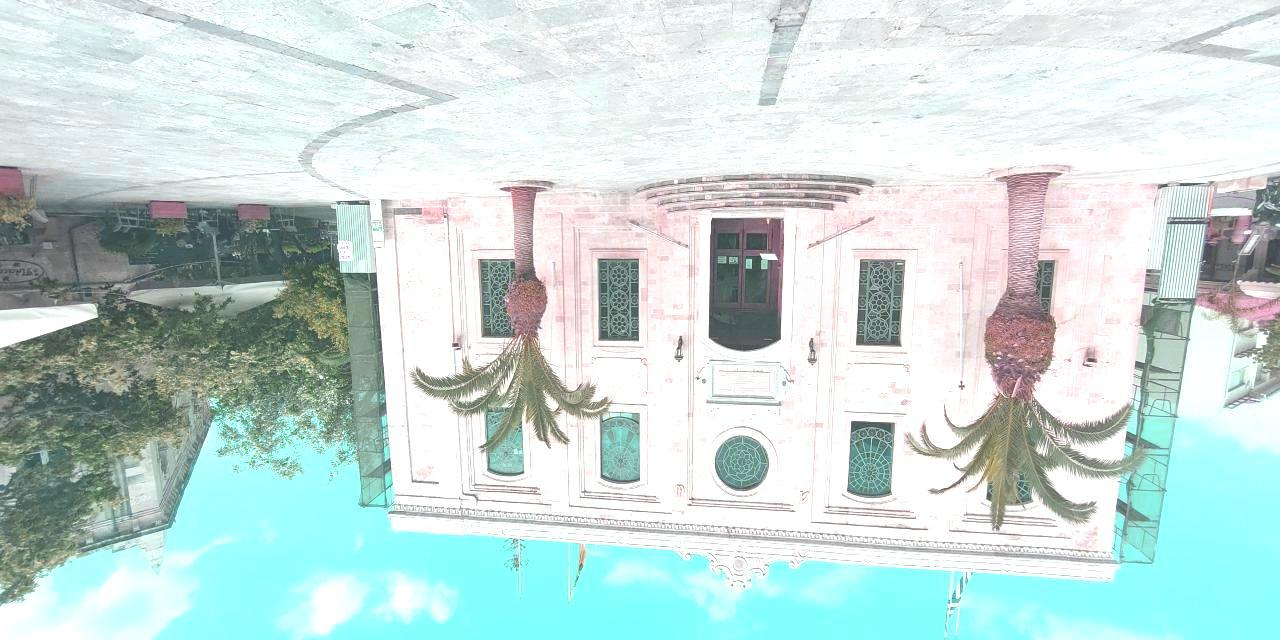Agios Titos: (373, 200, 1157, 573)
